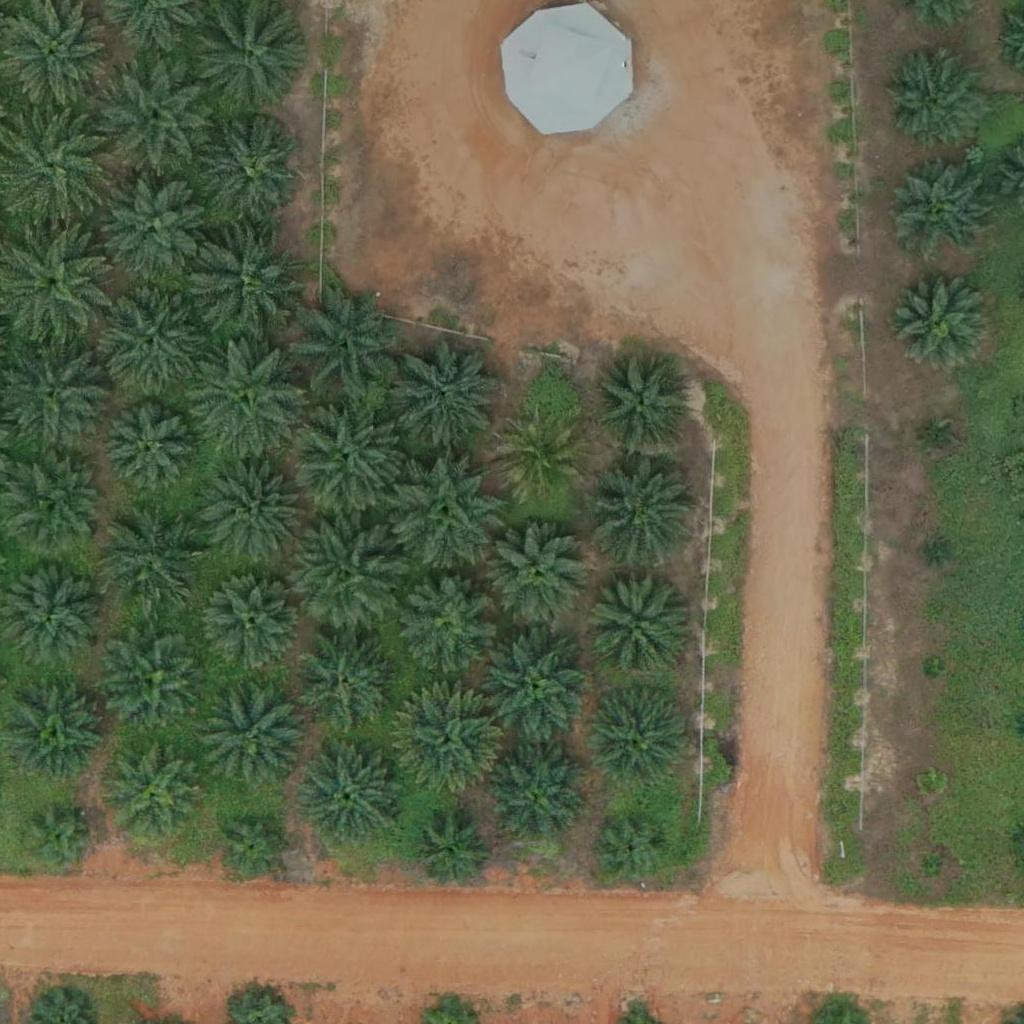Kelapa_Sawit: (393, 339, 506, 453), (391, 455, 504, 569), (291, 290, 404, 404), (192, 2, 305, 115), (480, 628, 593, 741), (100, 61, 212, 175), (291, 396, 403, 510), (194, 229, 306, 343), (393, 689, 505, 802), (588, 454, 700, 567), (288, 521, 400, 634), (191, 343, 303, 456), (95, 288, 207, 401), (97, 173, 209, 286), (882, 48, 982, 149), (890, 159, 990, 260), (888, 267, 988, 368), (590, 354, 690, 455), (487, 746, 587, 847), (296, 637, 396, 738), (300, 744, 400, 845), (202, 460, 302, 561), (203, 573, 303, 674), (203, 682, 303, 783), (102, 505, 202, 606), (104, 631, 204, 732), (104, 743, 204, 844), (10, 455, 110, 556), (4, 563, 104, 664), (5, 685, 105, 786), (202, 121, 302, 221), (585, 574, 685, 674), (590, 688, 690, 788), (491, 527, 591, 627), (397, 577, 497, 677), (496, 417, 584, 505), (104, 407, 191, 495), (596, 810, 671, 886), (22, 802, 97, 878), (414, 816, 489, 891), (218, 810, 293, 885), (925, 427, 950, 452), (925, 540, 950, 565), (921, 658, 946, 683), (917, 770, 942, 795), (920, 854, 945, 879)
